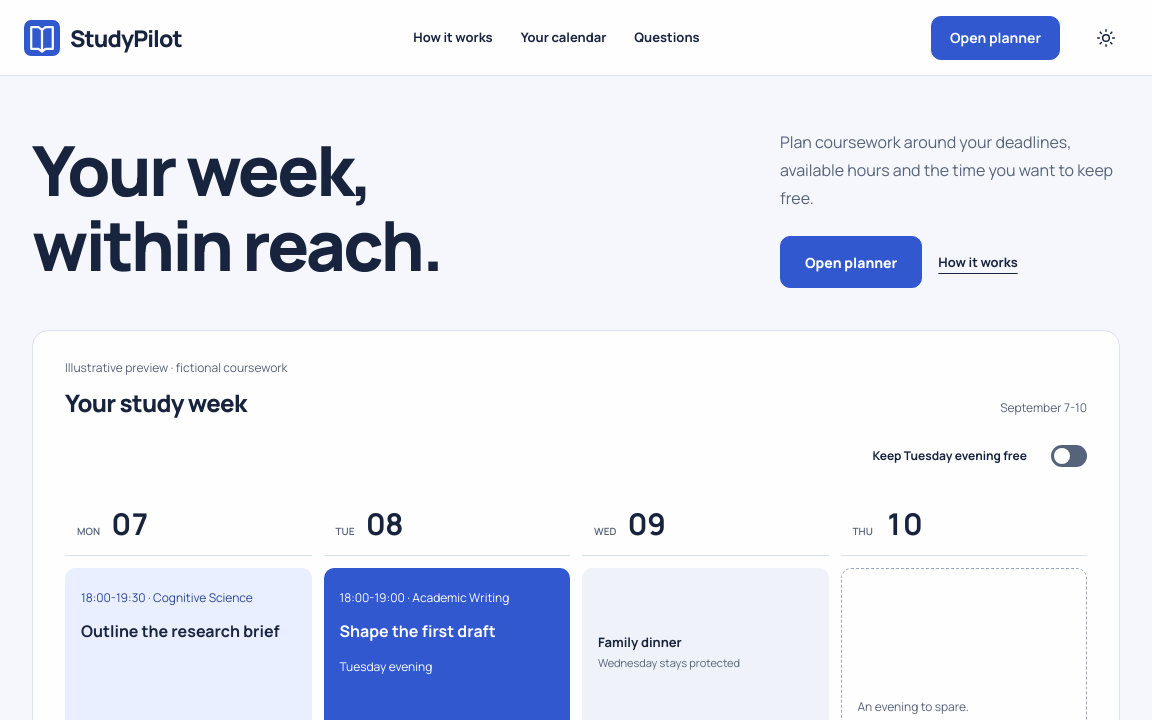
Test: StudyPilot › renders week labels from the returned session dates
What coordinates should you click on to do the following:
click the button "Open planner" in the row of "Questions"
I would click on:
 (996, 38)
Its box is [931,16,1060,60].
(page scrolled)
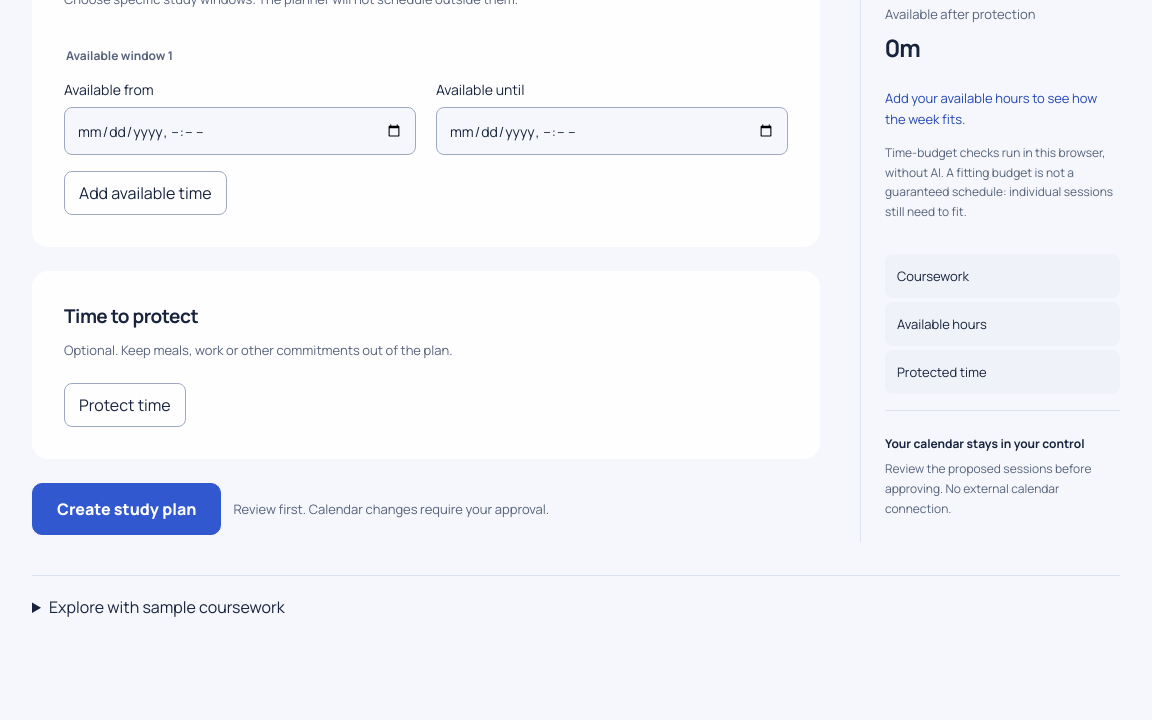
What coordinates should you click on to do the following:
click the heading "Explore with sample coursework"
I would click on:
 (167, 607)
Its box is [49,596,285,618].
(page scrolled)
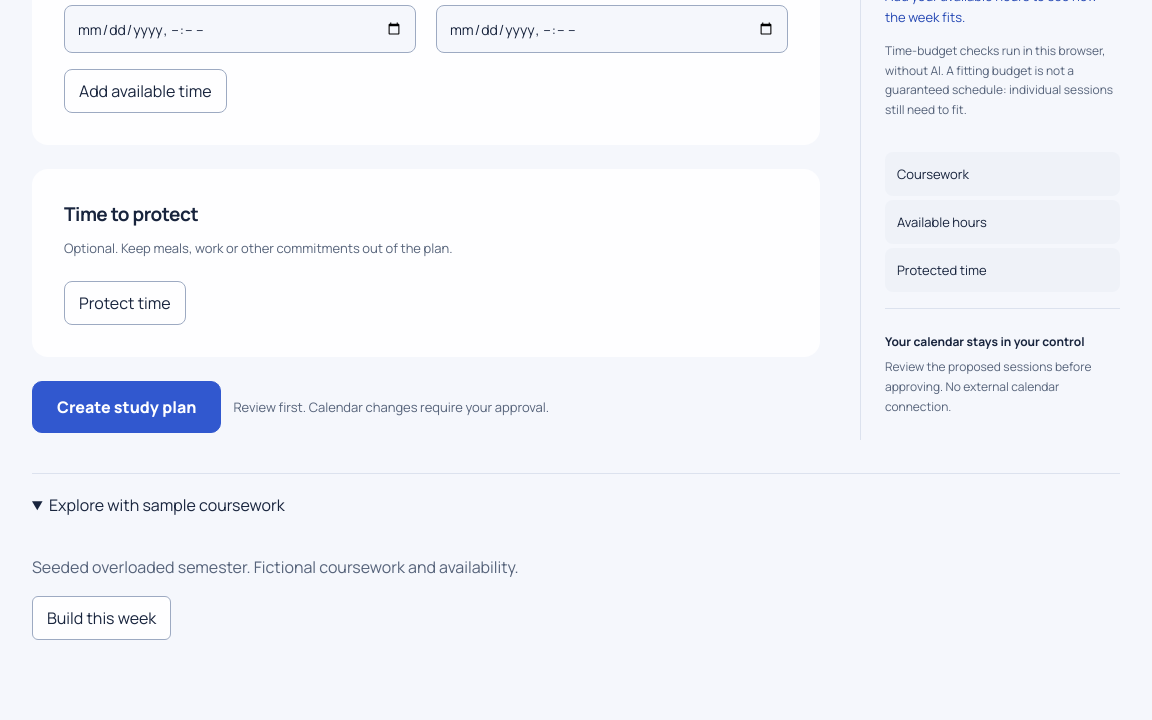
What coordinates should you click on to do the following:
click the button "Build this week"
I would click on:
 (102, 618)
Its box is [32,596,171,640].
(page scrolled)
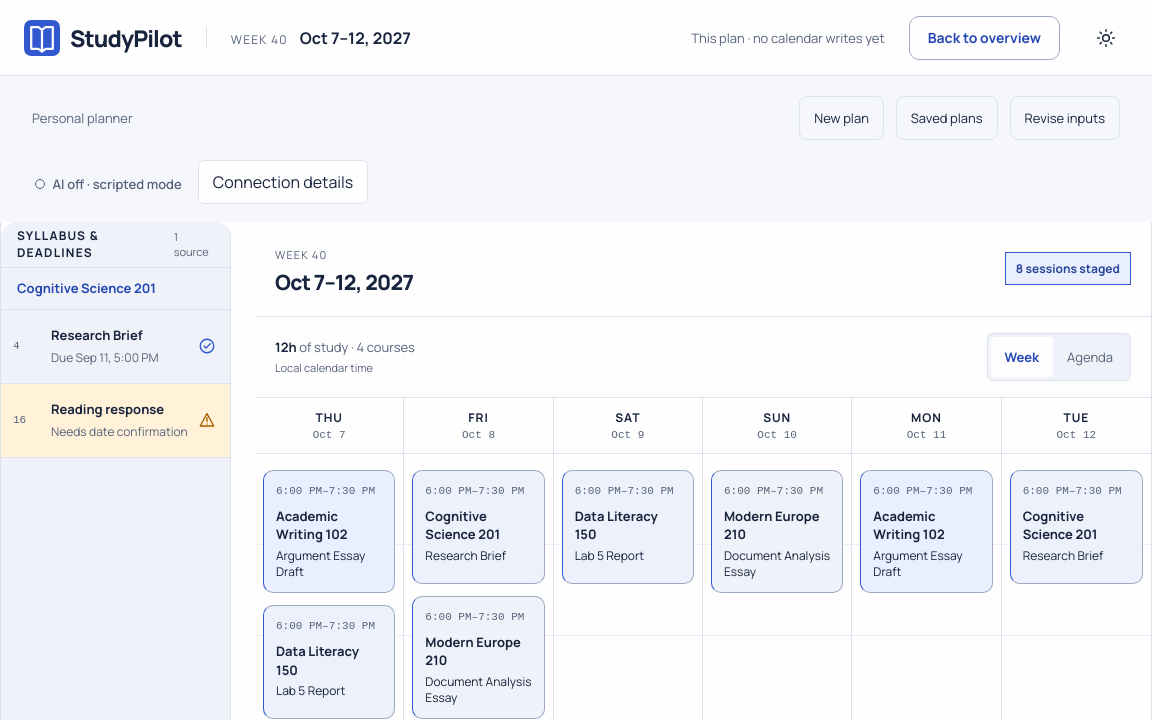
Expected: the heading "Oct 7–12, 2027" is shown, [275,268,413,296]
